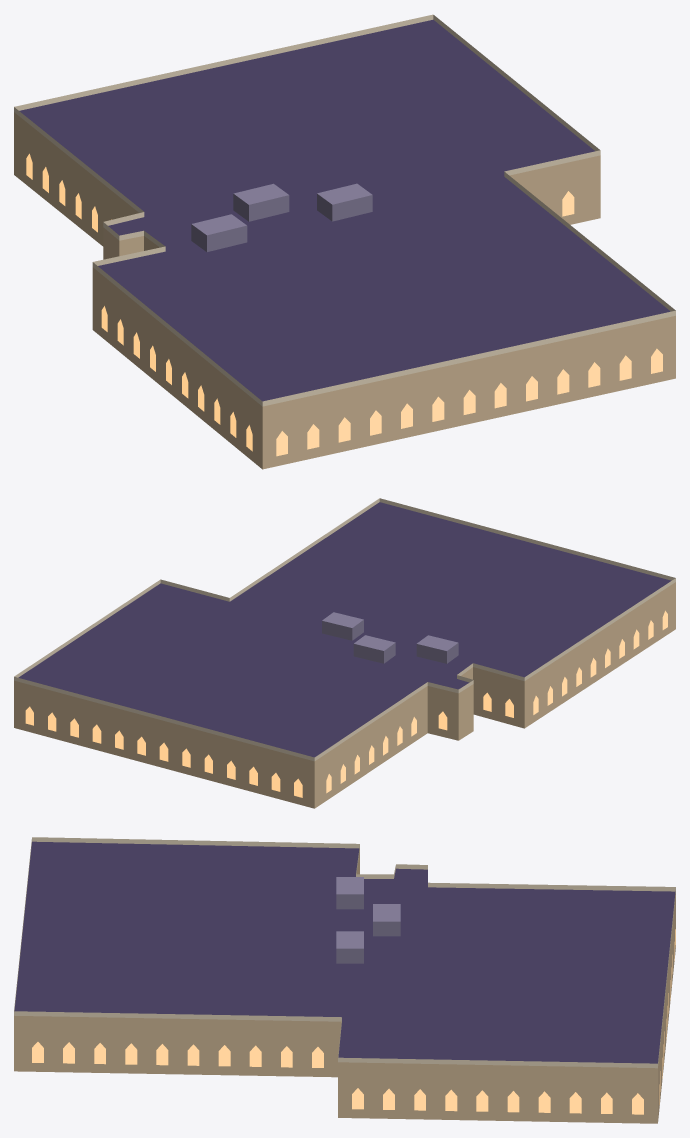
3 views of the same model, one above another, from view 1: azimuth 30°, elevation 25°; view 2: azimuth 150°, elevation 25°; view 3: azimuth 270°, elevation 25° (orthographic). The views are drawn at different scales.
Visible parts, largest first — view 1: campus/b-079-0; view 2: campus/b-079-0; view 3: campus/b-079-0.
Boxes of the visible parts, <box> form: campus/b-079-0: <box>14,14,675,469</box>; campus/b-079-0: <box>14,498,675,808</box>; campus/b-079-0: <box>14,837,675,1123</box>.
Size of the model in its own units: 58.51 by 8.5 by 72.28.
